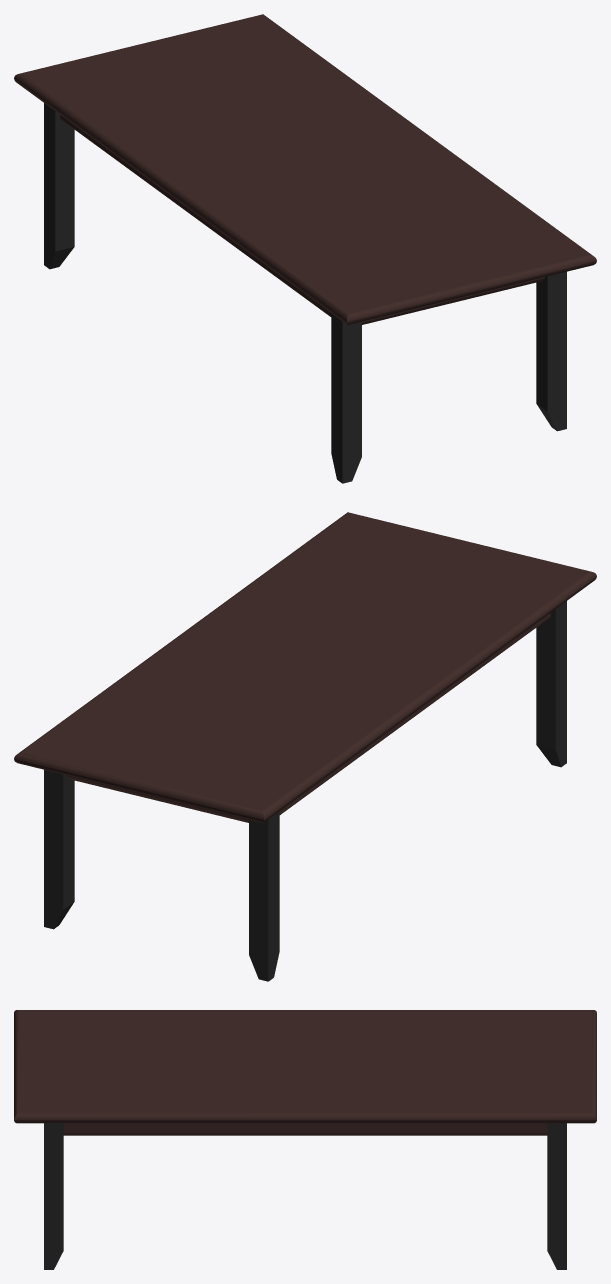
File: GrandeTable_50.fbx
The picture shows the model from 3 angles, top to bottom: view 1: azimuth 30°, elevation 25°; view 2: azimuth 150°, elevation 25°; view 3: azimuth 270°, elevation 25°; orthographic projection. The views are drawn at different scales.
Parts seen in each view (by area): view 1: pCube89, pCube90; view 2: pCube89, pCube90; view 3: pCube89, pCube90.
Boxes of the visible parts, x1,y1,x2,y2 form: pCube89: [14, 14, 596, 324]; pCube90: [44, 103, 566, 483]; pCube89: [14, 512, 596, 822]; pCube90: [44, 601, 566, 981]; pCube89: [14, 1010, 596, 1135]; pCube90: [44, 1123, 566, 1269].
Bounding box in the file's own units: 56.89 × 39.8 × 131.
